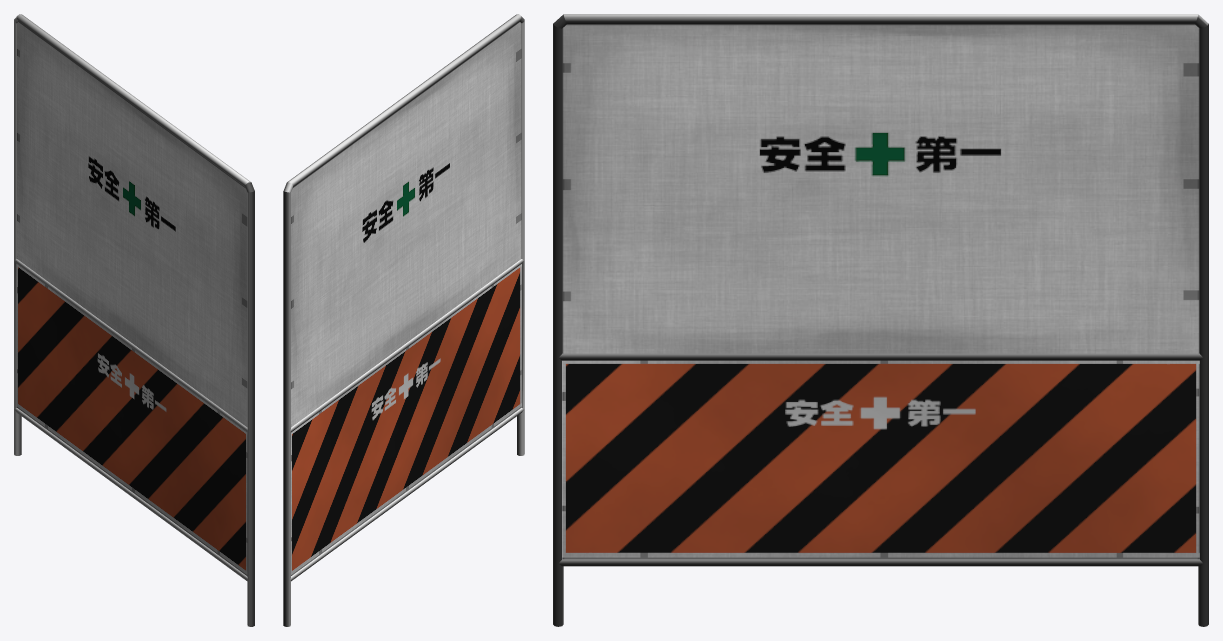
File: Preset_GuardFence.fbx
3 renders of one model, left to right at view 1: azimuth 30°, elevation 25°; view 2: azimuth 150°, elevation 25°; view 3: azimuth 270°, elevation 25°, orthographic. The views are drawn at different scales.
Visible parts, largest first — view 1: Sign_SheetA_Back, Sign_SheetB_Back, Frame_Center, Frame_PoleB, Frame_PoleA; view 2: Sign_SheetA_Back, Sign_SheetB_Back, Frame_Center, Frame_PoleA, Frame_PoleB; view 3: Sign_SheetA, Sign_SheetB, Frame_Center, Frame_PoleB, Frame_PoleA.
Boxes of the visible parts, x1,y1,x2,y2 form: Sign_SheetA_Back: [17, 21, 247, 426]; Sign_SheetB_Back: [17, 258, 247, 575]; Frame_Center: [14, 14, 254, 581]; Frame_PoleB: [247, 191, 254, 626]; Frame_PoleA: [14, 20, 21, 455]; Sign_SheetA_Back: [291, 21, 521, 426]; Sign_SheetB_Back: [291, 258, 521, 575]; Frame_Center: [283, 14, 524, 581]; Frame_PoleA: [283, 191, 290, 626]; Frame_PoleB: [517, 20, 524, 455]; Sign_SheetA: [562, 24, 1199, 352]; Sign_SheetB: [562, 353, 1199, 559]; Frame_Center: [553, 14, 1208, 566]; Frame_PoleB: [553, 24, 563, 626]; Frame_PoleA: [1198, 24, 1208, 626].
Size of the model in its own units: 3.02 by 180 by 185.
3 materials, 2 textured.
